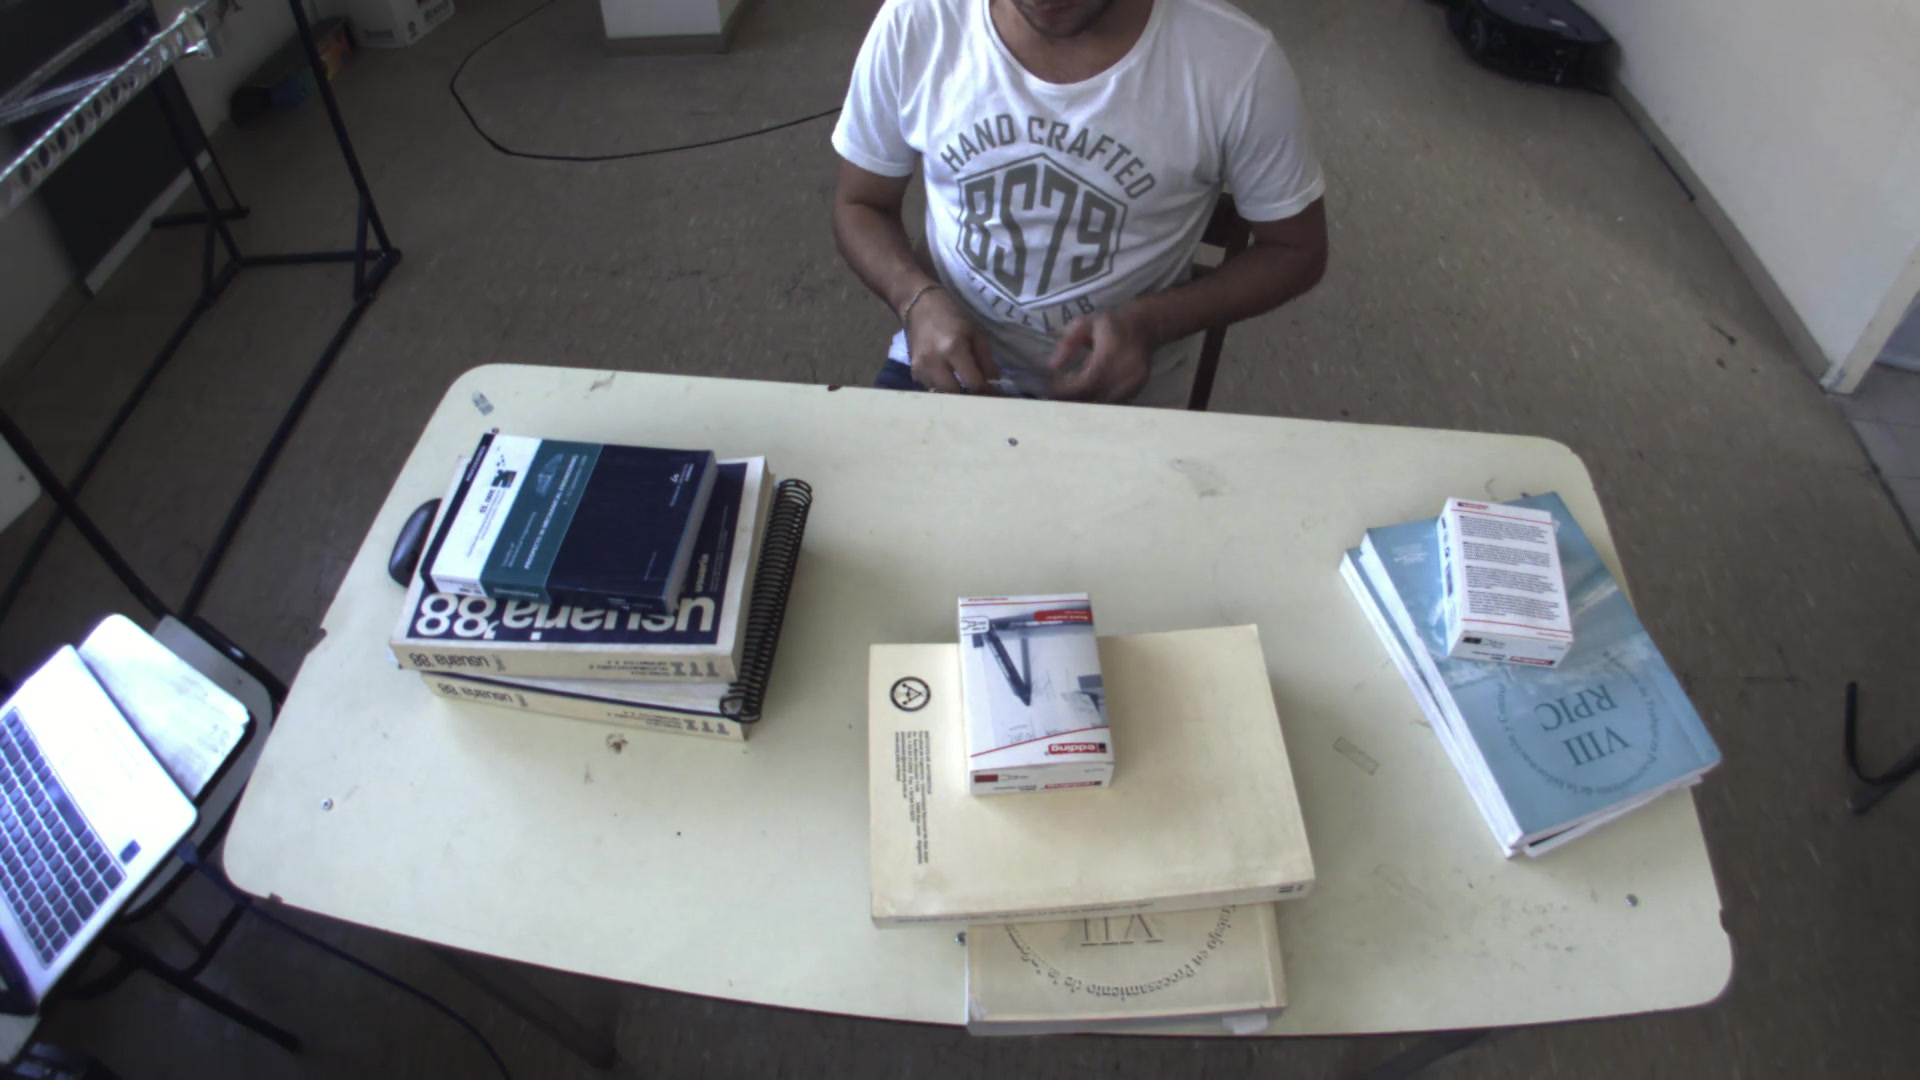hand: (891, 284, 1002, 400), (1047, 285, 1156, 402)
